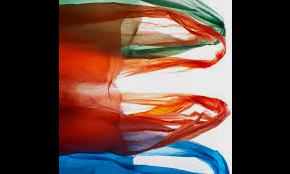Plastic: (59, 0, 232, 165), (59, 0, 233, 68), (59, 135, 227, 173)
